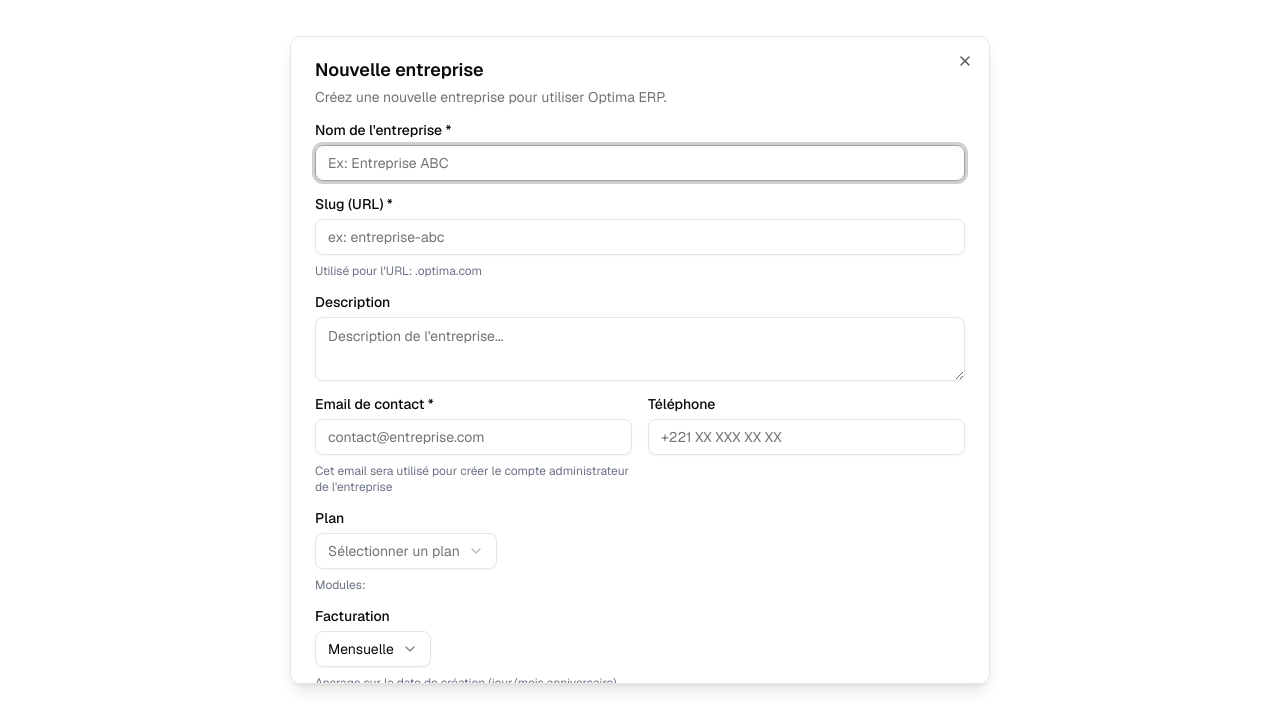
TenantDialog › devrait générer automatiquement le slug à partir du nom
Type "Entreprise ABC 123" into the field labelled "Nom de l'entreprise *" at (640, 163), box [315,145,965,181]
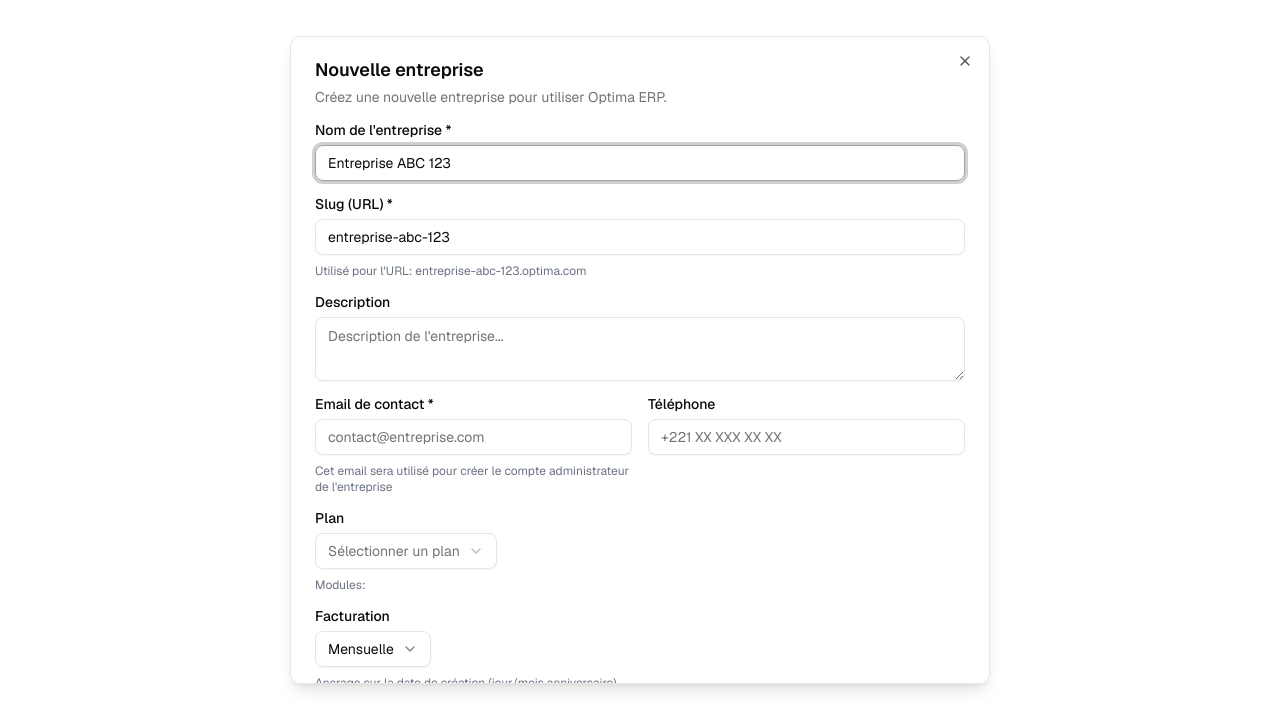
Now the field labelled "Slug (URL) *" holds "entreprise-abc-123", box [315,219,965,255]
